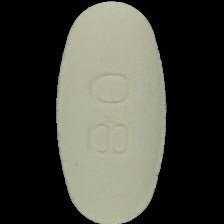65862-098: (0, 0, 224, 224)
